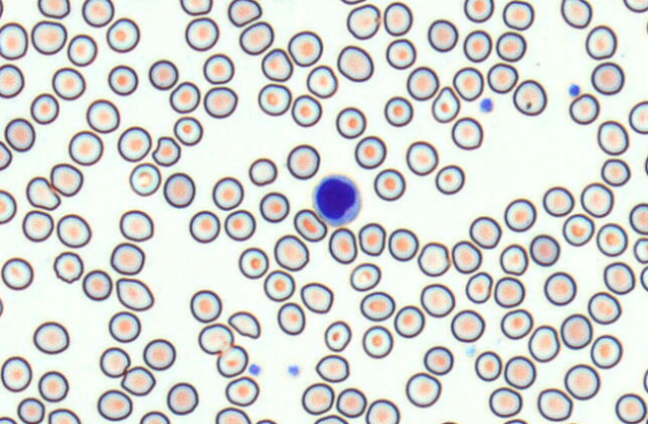LYM: (312, 173, 362, 227)
PLT: (478, 98, 494, 113), (286, 363, 300, 377), (567, 82, 582, 95), (249, 362, 262, 375)
RBC: (563, 363, 600, 400), (336, 45, 373, 82), (273, 234, 309, 271), (115, 277, 154, 311), (405, 372, 441, 407), (238, 20, 274, 55), (287, 30, 322, 66), (68, 130, 103, 165), (184, 16, 219, 51), (56, 213, 91, 248), (30, 20, 66, 54), (536, 387, 572, 421), (346, 3, 380, 39), (512, 79, 546, 115), (32, 321, 69, 354), (528, 324, 560, 362), (420, 283, 455, 317), (106, 17, 140, 52), (117, 126, 151, 161), (197, 322, 233, 355), (0, 355, 32, 392), (580, 182, 613, 217), (417, 241, 450, 276), (86, 98, 119, 133), (405, 140, 438, 175), (286, 144, 319, 179), (560, 313, 592, 349), (585, 24, 617, 60), (50, 162, 83, 196), (406, 66, 439, 100), (51, 67, 85, 100), (450, 309, 484, 342), (543, 271, 576, 305), (587, 291, 621, 324), (503, 198, 536, 232), (293, 208, 326, 242), (260, 47, 293, 81), (591, 61, 624, 95), (110, 242, 144, 275), (257, 83, 291, 116), (97, 389, 132, 421), (163, 172, 195, 207), (597, 120, 629, 155), (0, 21, 28, 60), (0, 257, 33, 290), (301, 382, 334, 415), (189, 289, 222, 322), (503, 355, 535, 389), (129, 162, 161, 196), (166, 381, 198, 415), (203, 86, 237, 118), (590, 334, 622, 368), (354, 135, 386, 169), (119, 209, 153, 241), (452, 66, 483, 101), (224, 375, 259, 406), (359, 291, 395, 321), (431, 86, 460, 123), (216, 344, 248, 377), (469, 215, 501, 248), (562, 213, 594, 246), (361, 325, 393, 358), (142, 338, 175, 370), (373, 168, 405, 201), (603, 261, 635, 294), (451, 116, 483, 149), (387, 227, 418, 261), (393, 304, 424, 338), (4, 117, 35, 151), (488, 386, 522, 417), (212, 176, 243, 210), (306, 64, 337, 98), (596, 222, 627, 256), (328, 227, 357, 263), (108, 310, 140, 342), (263, 269, 295, 301), (451, 240, 482, 273), (22, 209, 53, 242), (427, 19, 458, 52), (189, 210, 220, 243), (300, 282, 333, 313), (291, 94, 322, 127), (529, 233, 560, 266), (383, 1, 412, 36), (500, 308, 532, 339), (614, 392, 646, 423), (493, 276, 525, 307), (486, 62, 518, 93), (169, 81, 200, 113), (202, 53, 234, 84), (335, 106, 366, 138), (224, 209, 255, 241), (238, 246, 268, 279), (67, 33, 97, 66), (335, 387, 366, 418), (99, 346, 130, 377), (568, 93, 599, 124), (107, 64, 138, 95), (385, 38, 416, 69), (53, 251, 83, 283), (502, 0, 534, 30), (82, 269, 112, 301), (38, 370, 68, 402), (542, 186, 574, 216), (383, 95, 413, 127), (463, 29, 492, 62), (315, 354, 349, 382), (148, 59, 178, 90), (495, 31, 526, 61), (259, 191, 289, 222), (30, 92, 59, 124), (349, 262, 381, 291), (499, 243, 528, 275), (277, 302, 305, 335), (227, 0, 261, 27), (358, 222, 385, 256), (423, 345, 453, 375), (560, 0, 592, 28), (81, 0, 114, 27), (435, 164, 464, 194), (474, 350, 502, 381), (323, 320, 351, 351), (465, 271, 492, 303), (365, 398, 399, 423), (248, 157, 277, 186), (173, 116, 202, 145), (0, 63, 24, 98), (600, 158, 630, 186), (17, 397, 45, 423), (463, 0, 493, 22), (628, 100, 647, 134), (215, 406, 251, 423), (37, 0, 70, 18), (629, 202, 647, 234), (0, 189, 16, 224), (47, 408, 80, 423), (179, 0, 212, 15), (139, 410, 170, 423), (633, 236, 647, 264), (0, 140, 12, 170), (313, 414, 348, 423), (622, 0, 647, 12), (640, 265, 647, 291), (642, 368, 648, 393), (339, 0, 366, 5), (502, 418, 528, 423), (0, 416, 17, 423), (255, 418, 277, 423), (436, 420, 461, 424), (644, 154, 648, 176), (0, 0, 4, 18), (559, 421, 583, 424), (0, 295, 3, 317)
Schistocyte: (25, 176, 61, 211), (119, 366, 157, 397), (228, 311, 261, 340), (152, 136, 181, 167)
